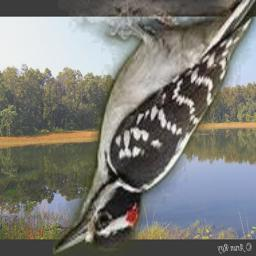Woodpecker: (53, 0, 256, 256)
